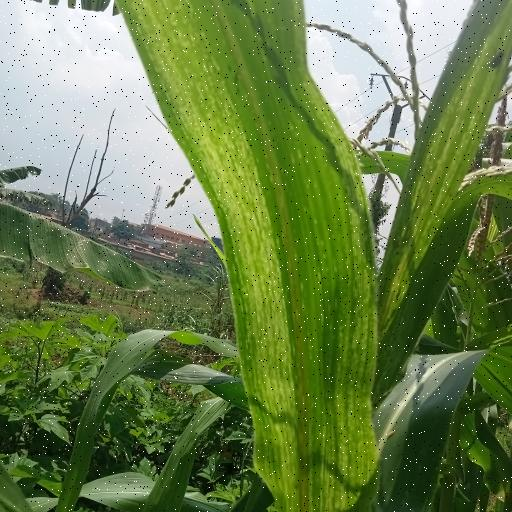Corn_Streak: (105, 0, 386, 504)
